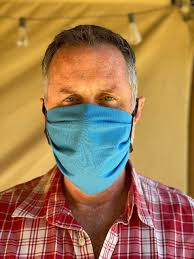cloth_mask: (42, 105, 136, 195)
